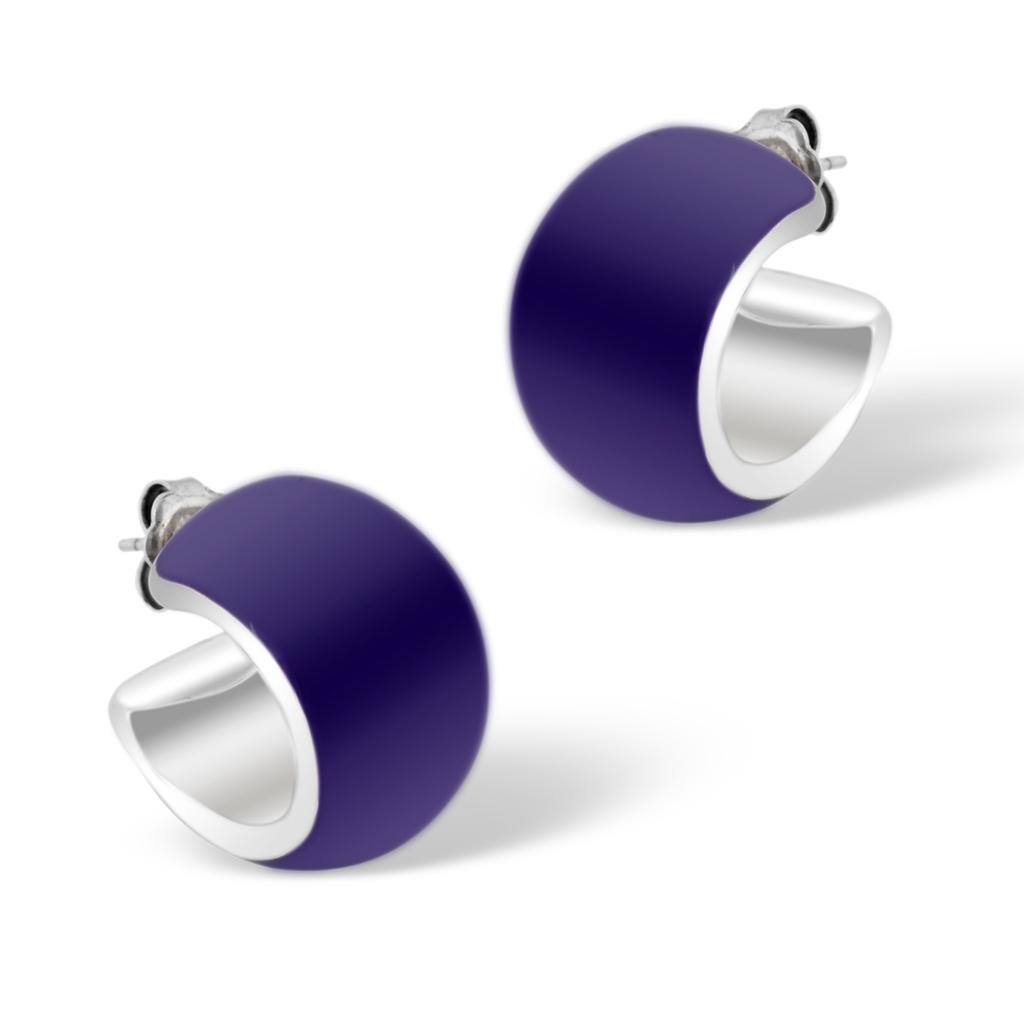earring: (505, 96, 903, 530), (99, 468, 488, 871)
